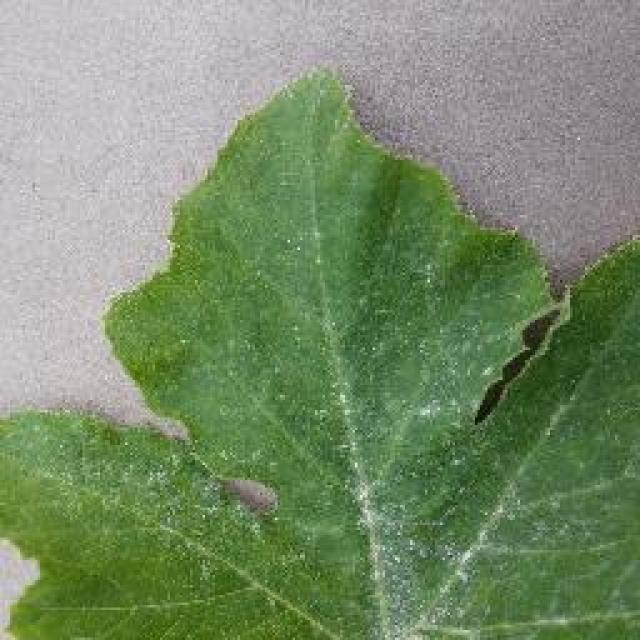Squ_Powdery_mildew: (138, 187, 562, 629)
